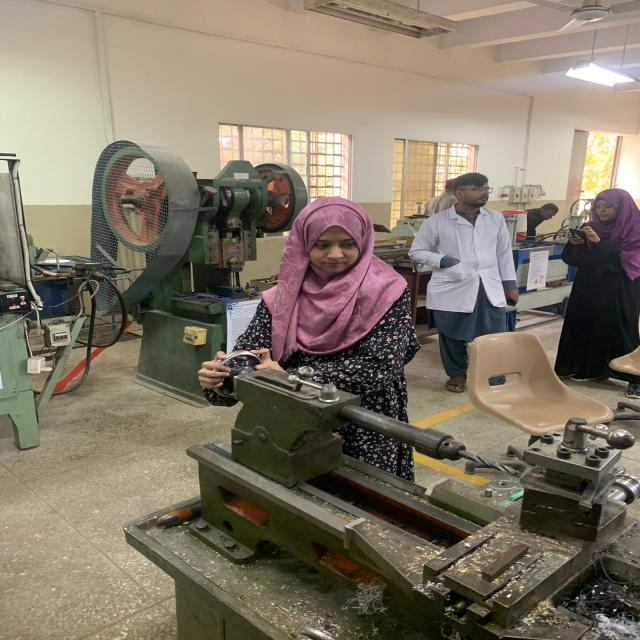labcoat: (408, 201, 522, 316)
